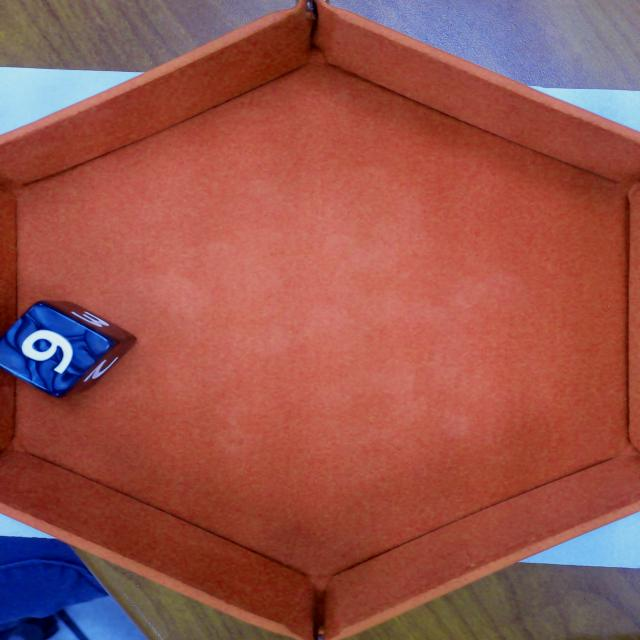dice: (0, 301, 117, 396)
